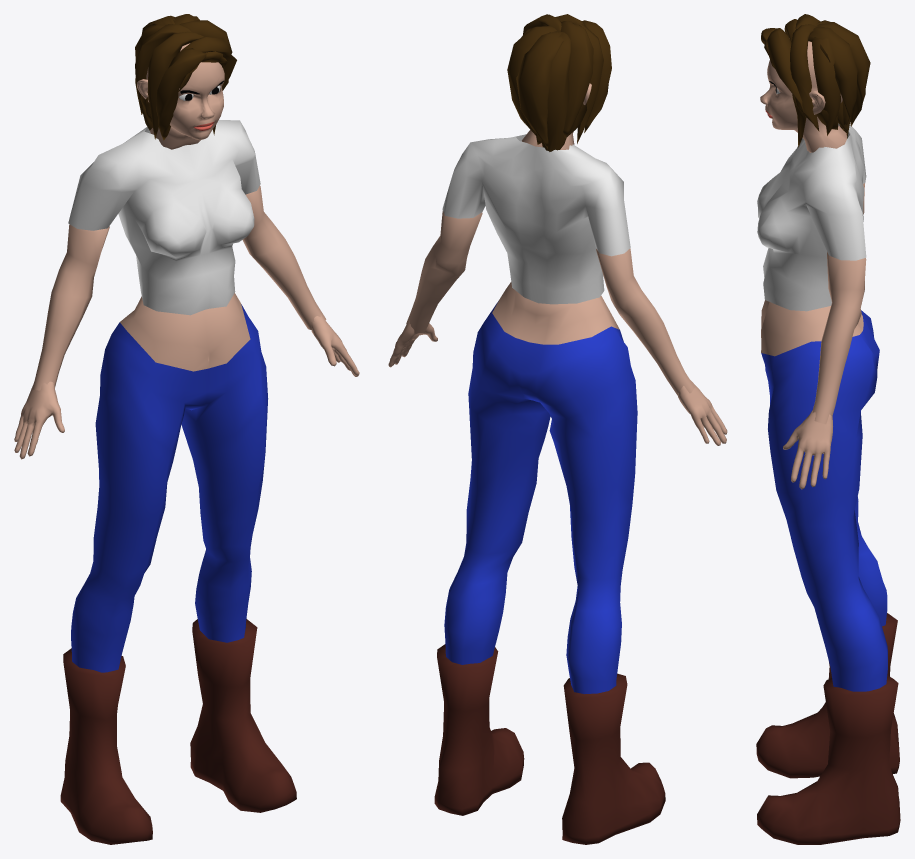
Rendered from MODELO_ZE.fbx.
The picture shows the model from 3 angles, left to right: view 1: azimuth 30°, elevation 25°; view 2: azimuth 150°, elevation 25°; view 3: azimuth 270°, elevation 25°; orthographic projection. The views are drawn at different scales.
Parts seen in each view (by area): view 1: ROUPA, CABECA, CABELO; view 2: ROUPA, CABELO, CABECA; view 3: ROUPA, CABELO, CABECA.
Part boxes in pixels (<box>): ROUPA: <box>32,120,326,844</box>; CABECA: <box>14,43,359,459</box>; CABELO: <box>135,14,236,140</box>; ROUPA: <box>406,134,694,844</box>; CABELO: <box>507,14,611,151</box>; CABECA: <box>388,83,727,445</box>; ROUPA: <box>756,123,900,844</box>; CABELO: <box>761,14,870,147</box>; CABECA: <box>760,41,846,489</box>.
Bounding box in the file's own units: 77.45 × 173 × 29.15.
